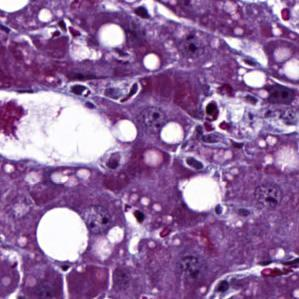ballooning: (4, 88, 116, 171)
